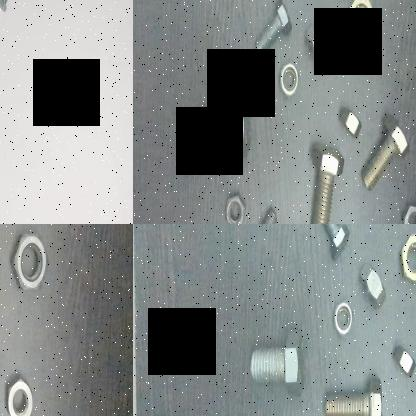Bolts: (242, 321, 309, 395), (356, 113, 410, 197), (190, 91, 253, 161), (306, 143, 345, 224), (322, 371, 382, 416), (251, 0, 294, 61), (307, 224, 351, 259), (241, 207, 284, 224)
NUTS: (6, 229, 48, 292), (357, 254, 387, 310), (300, 20, 334, 68), (394, 227, 416, 295), (2, 374, 36, 416), (343, 0, 375, 43), (326, 296, 356, 340), (392, 334, 416, 386), (273, 55, 301, 99), (338, 95, 360, 146), (220, 186, 246, 224), (396, 197, 416, 224)
